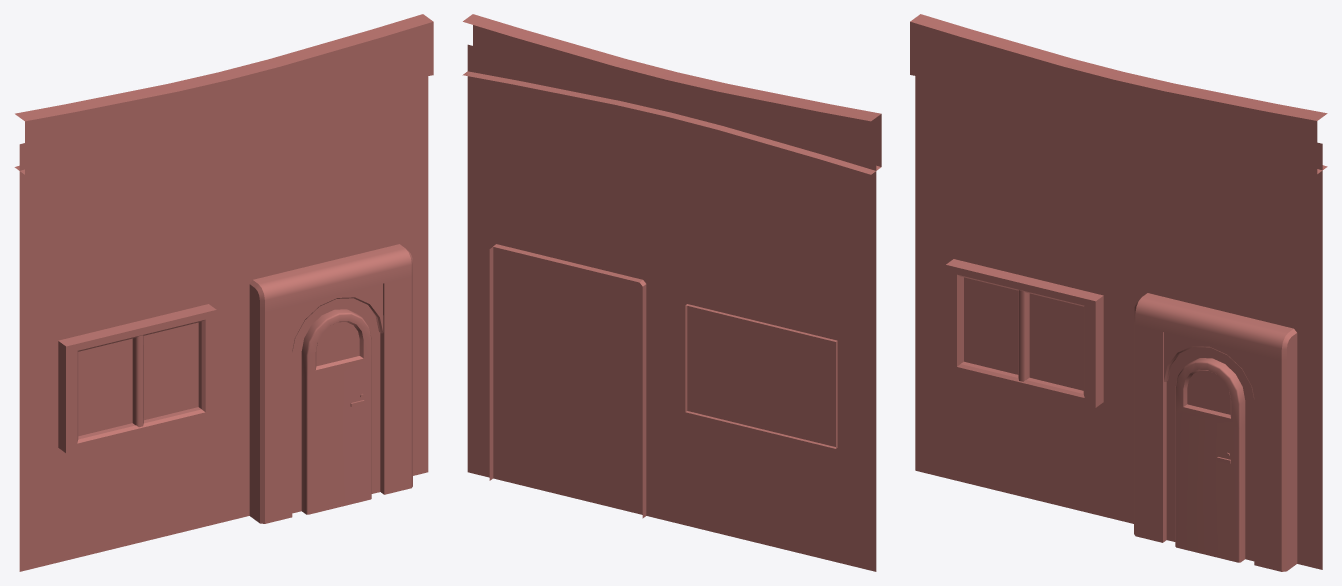
Rendered from Door_1_2.fbx.
3 views of the same model, side by side, from view 1: azimuth 30°, elevation 25°; view 2: azimuth 150°, elevation 25°; view 3: azimuth 330°, elevation 25° (orthographic).
Parts seen in each view (by area): view 1: Door_1_2; view 2: Door_1_2; view 3: Door_1_2.
Boxes of the visible parts, box(x1,y1,x2,y2) form: Door_1_2: box(14, 14, 433, 571); Door_1_2: box(462, 14, 881, 571); Door_1_2: box(910, 14, 1327, 571).
Size of the model in its own units: 4 by 4.25 by 0.3417.
